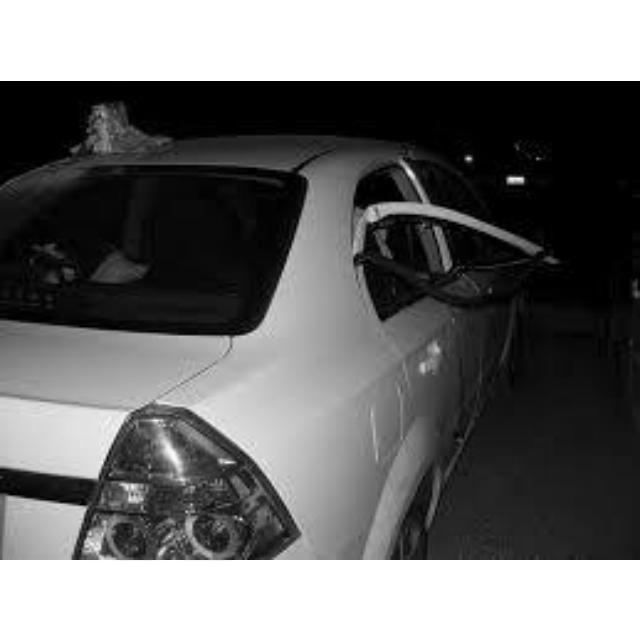Rear-windscreen-Damage: (20, 169, 257, 317)
